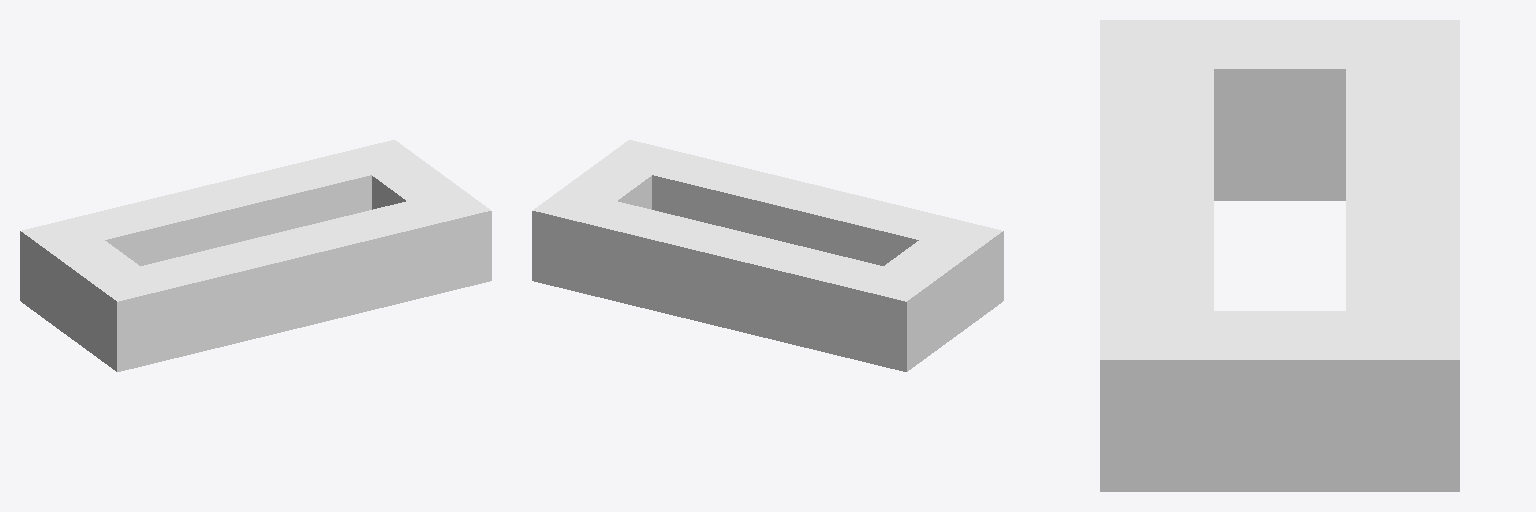
robot.urdf — Officedesk_B:
<?xml version="1.0" encoding="utf-8"?>
<!-- This URDF was automatically created by SolidWorks to URDF Exporter! Originally created by [author] ([email redacted]) 
     Commit Version: 1.5.1-0-g916b5db  Build Version: 1.5.7152.31018
     For more information, please see http://wiki.ros.org/sw_urdf_exporter -->
<robot
  name="Officedesk_B">
  <link
    name="Officedesk_B">
    <inertial>
      <origin
        xyz="7.4704E-16 8.2176E-17 0.375"
        rpy="0 0 0" />
      <mass
        value="4294.1" />
      <inertia
        ixx="1830"
        ixy="7.3506E-14"
        ixz="-9.0195E-14"
        iyy="7468.7"
        iyz="-4.9057E-14"
        izz="8896.1" />
    </inertial>
    <visual>
      <origin
        xyz="0 0 0"
        rpy="0 0 0" />
      <geometry>
        <mesh
          filename="package://Officedesk_B/meshes/Officedesk_B.STL" />
      </geometry>
      <material
        name="">
        <color
          rgba="1 1 1 1" />
        <texture
          filename="package://Officedesk_B/textures/" />
      </material>
    </visual>
    <collision>
      <origin
        xyz="0 0 0"
        rpy="0 0 0" />
      <geometry>
        <mesh
          filename="package://Officedesk_B/meshes/Officedesk_B.STL" />
      </geometry>
    </collision>
  </link>
</robot>

--- Facts derived from the render (not from the file) ---
Views: 3 orthographic renders of the robot side by side, from view 1: azimuth 30°, elevation 25°; view 2: azimuth 150°, elevation 25°; view 3: azimuth 270°, elevation 25°.
Robot: Officedesk_B — 1 links, 0 joints (none); root link Officedesk_B; default pose: every joint at zero.
Visible links, largest first — view 1: Officedesk_B; view 2: Officedesk_B; view 3: Officedesk_B.
Link boxes in pixels (bbox=[...]): Officedesk_B: bbox=[20, 140, 491, 371]; Officedesk_B: bbox=[532, 140, 1003, 371]; Officedesk_B: bbox=[1100, 20, 1459, 491].
Size in the robot's own frame: 4.16 by 1.87 by 0.75 metres.
1 mesh visuals loaded from 1 distinct referenced files (1 binary STL).